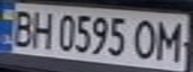0: (54, 11, 75, 52)
5: (106, 15, 133, 58), (72, 11, 93, 55)
9: (87, 12, 112, 56)
B: (6, 7, 39, 48)
H: (27, 8, 57, 51)
M: (151, 17, 187, 63)
O: (130, 17, 160, 61)
